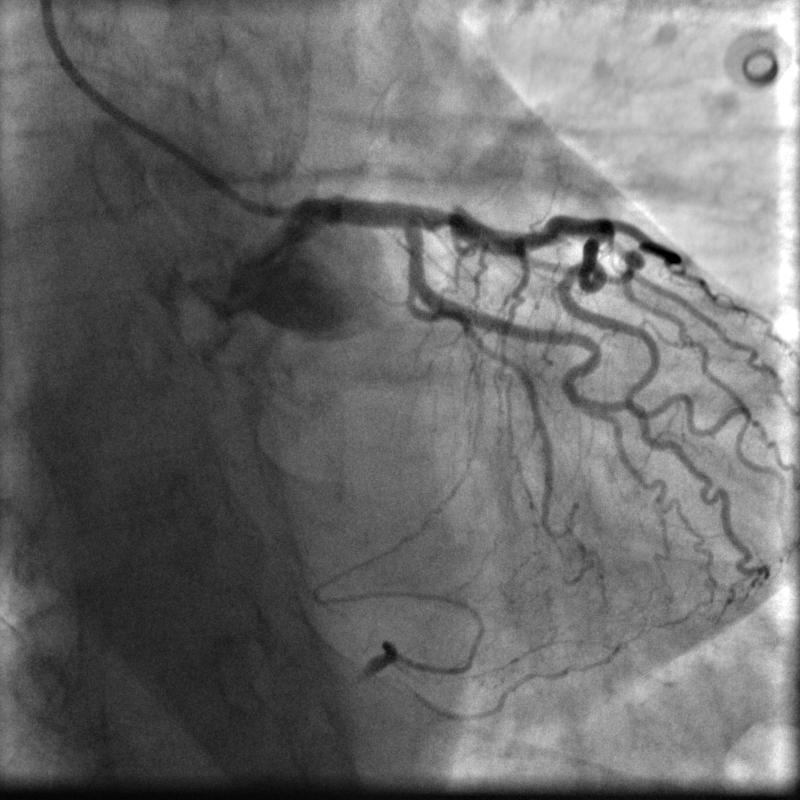Stenosis: (431, 201, 460, 235)
